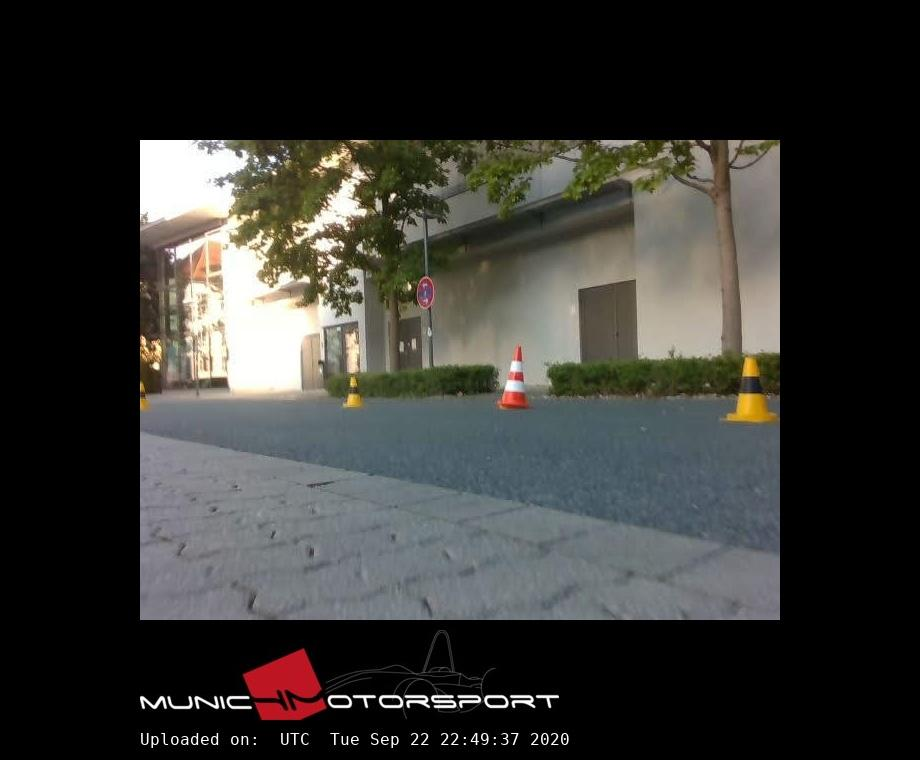large_orange_cone: (497, 346, 529, 409)
yellow_cone: (725, 356, 777, 421), (343, 376, 364, 407), (140, 382, 149, 411)
